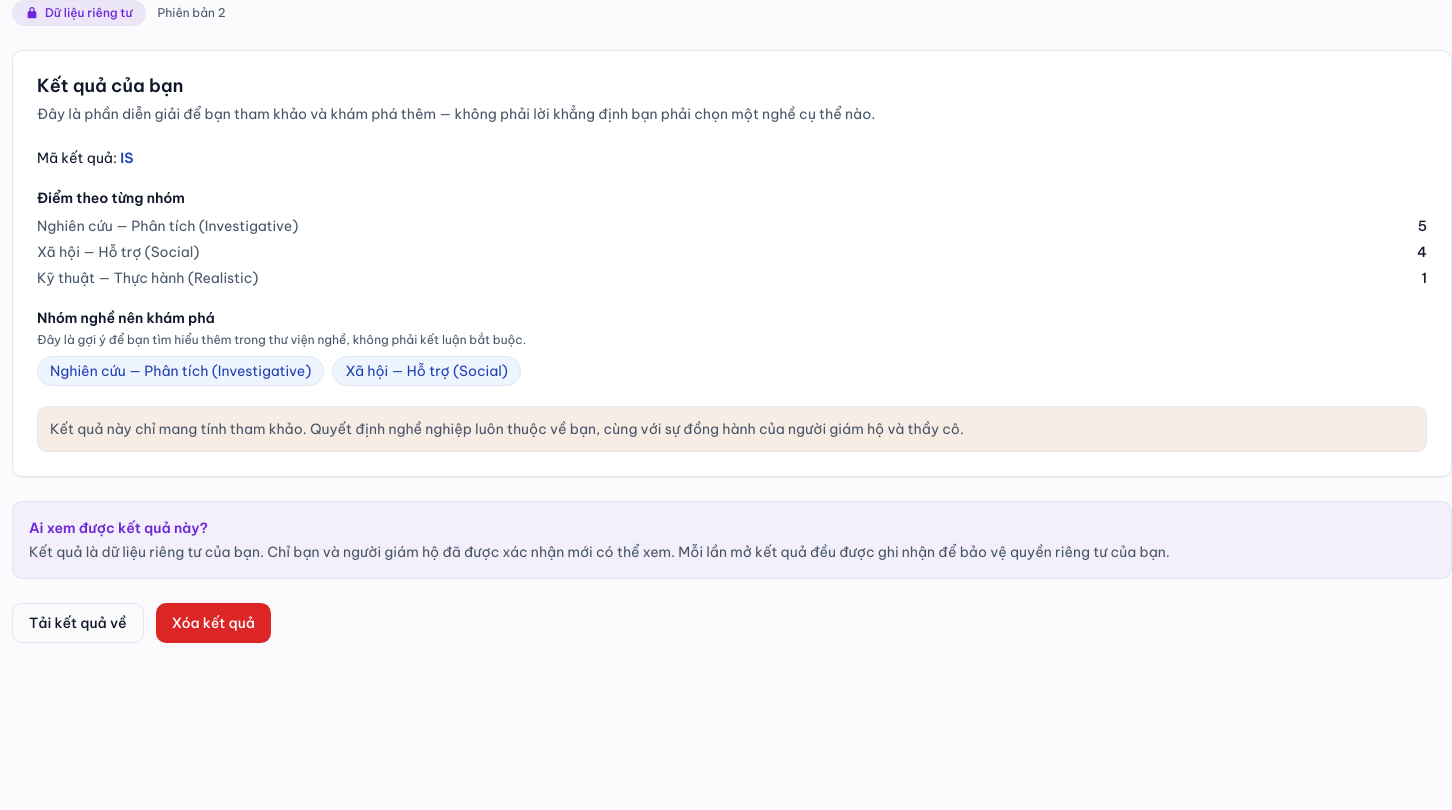
Test: ResultView (CP-3, FR-12/14) › can cancel the delete confirmation without deleting
Expected: the element with test id "sensitive-badge" is shown, [12, 0, 146, 26]
Click the button "Xóa kết quả" at (213, 622), box [156, 602, 271, 642]
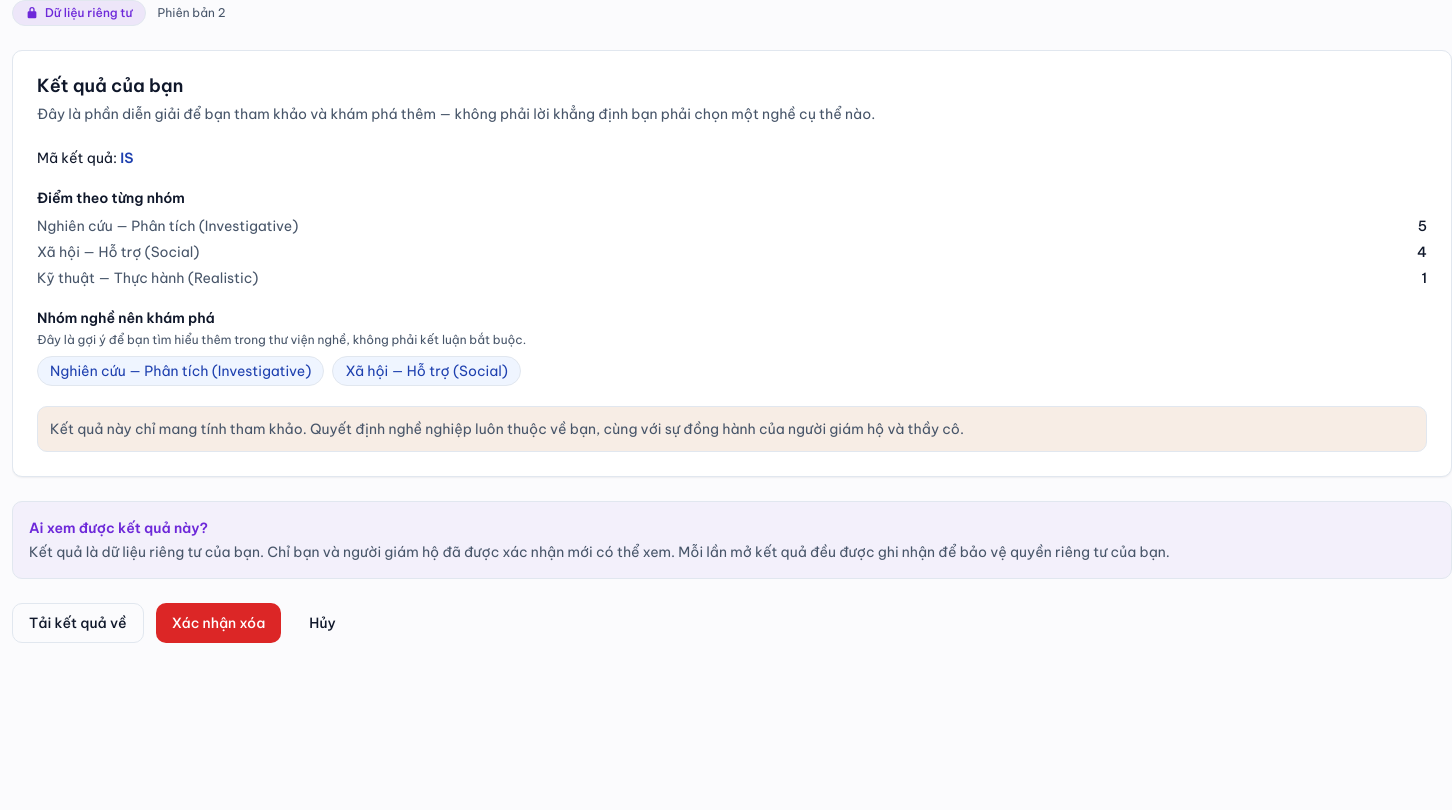
Click the button "Hủy" at (322, 622), box [293, 602, 352, 642]
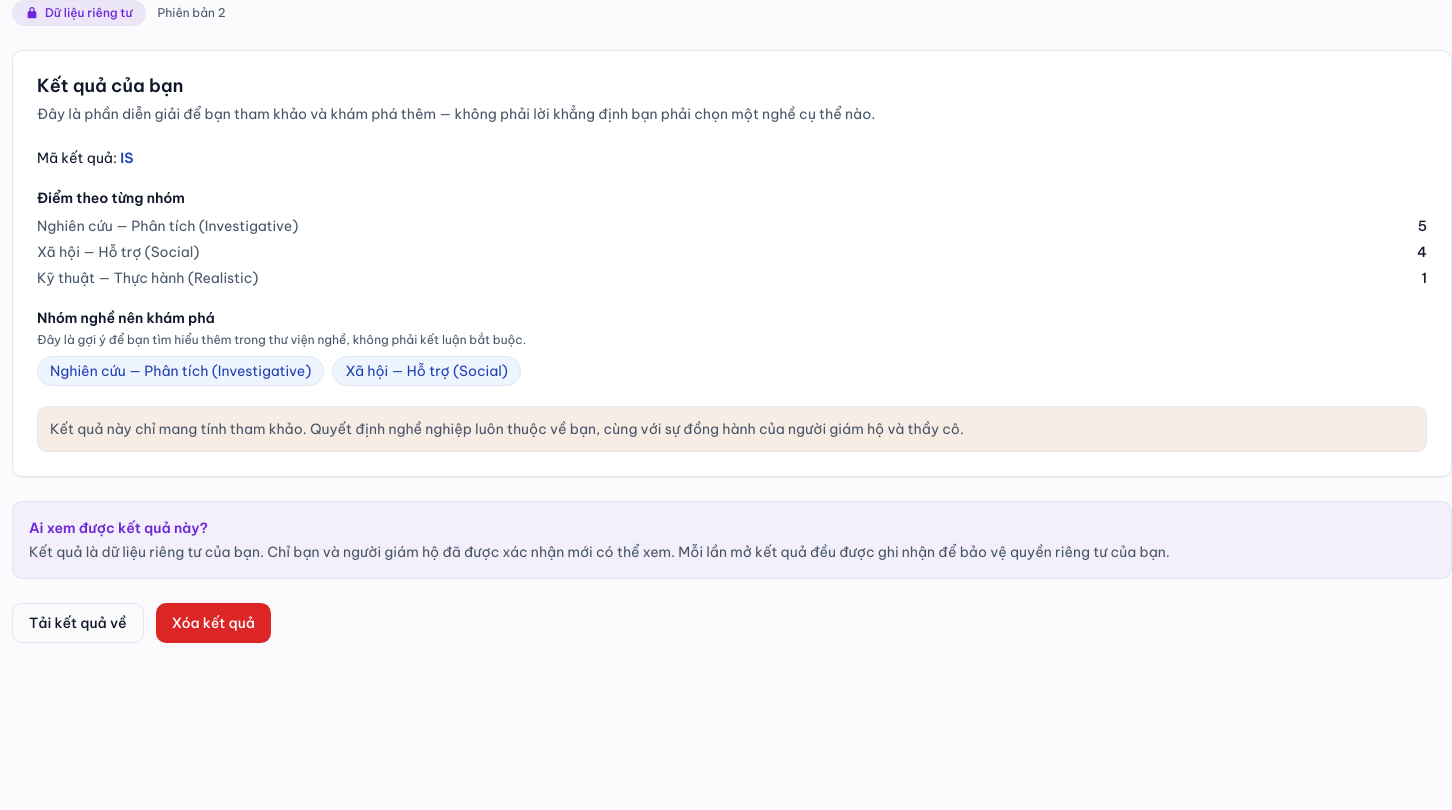
Result: the button "Xóa kết quả" is shown at [156, 602, 271, 642]
